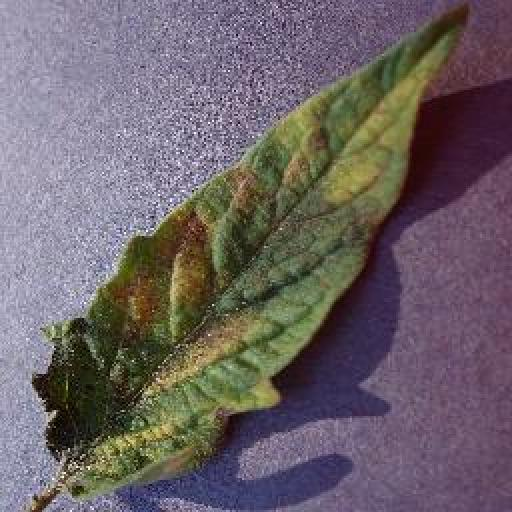disease_tomato: (30, 0, 475, 500)
